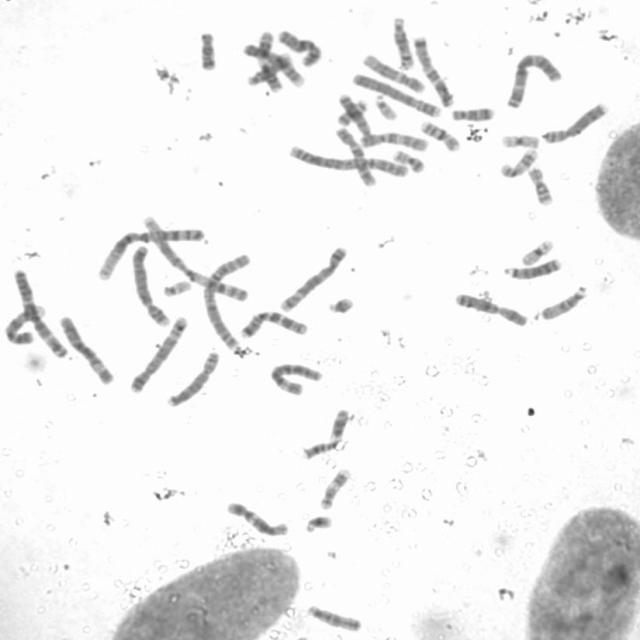A1: (140, 213, 251, 302), (93, 224, 207, 281)
A2: (201, 249, 253, 353), (286, 142, 410, 178)
A3: (9, 268, 70, 360), (503, 51, 562, 109)
B4: (348, 70, 443, 120), (129, 241, 171, 328)
B5: (126, 313, 189, 394), (277, 243, 349, 313)
C10: (332, 125, 379, 188), (357, 129, 427, 153)
C11: (299, 404, 352, 460), (254, 28, 284, 98)
C12: (359, 48, 427, 94), (224, 497, 291, 538)
C6: (55, 312, 116, 390), (268, 362, 325, 396)
C7: (410, 34, 456, 108), (237, 308, 309, 339)
C8: (163, 348, 221, 409), (539, 100, 610, 145)
C9: (237, 40, 307, 89), (3, 298, 47, 346)
D13: (335, 91, 374, 139), (501, 255, 564, 281)
D14: (245, 52, 294, 86), (390, 14, 415, 70)
D15: (536, 282, 592, 322), (305, 602, 360, 633)
E16: (418, 119, 464, 152), (524, 163, 553, 206)
E17: (316, 465, 353, 510), (497, 146, 540, 180)
E18: (195, 28, 219, 73), (449, 104, 495, 122)
F19: (518, 237, 556, 266), (498, 131, 541, 150)
F20: (390, 147, 427, 174), (334, 96, 369, 124)
G21: (324, 294, 356, 316), (302, 512, 334, 534)
G22: (372, 92, 398, 121), (159, 276, 193, 298)
X: (452, 290, 529, 328), (275, 27, 325, 67)
